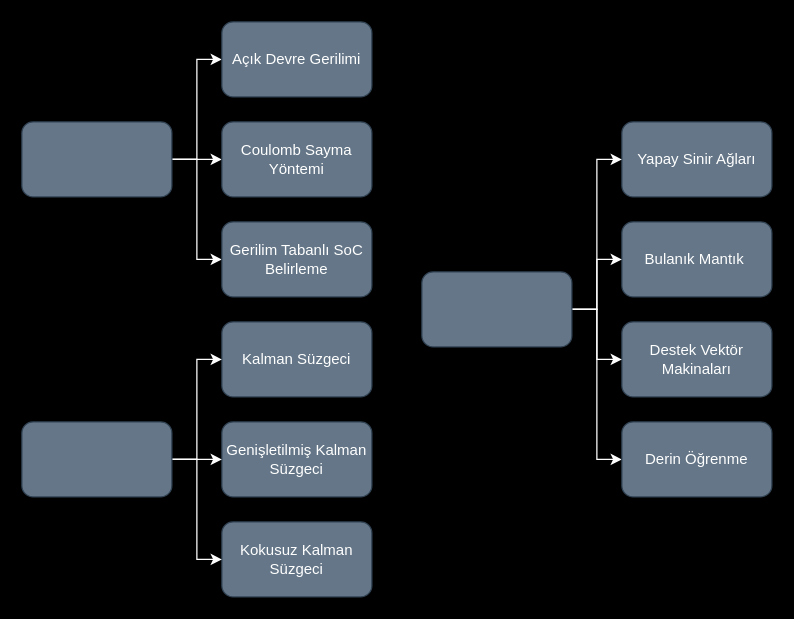
This 794x619 diagram has some shape labels left out. The shapes that lost their labels are listed below. From the top down, each one's centre as x and y in pixels, then its label:
At (96,159): "Deneye Bağlı Geleneksel Yöntemler".
At (496,309): "Zeki Algoritmalar".
At (96,459): "Durum Uzayı Modeline Dayalı Kestirim Alagoritmaları".
